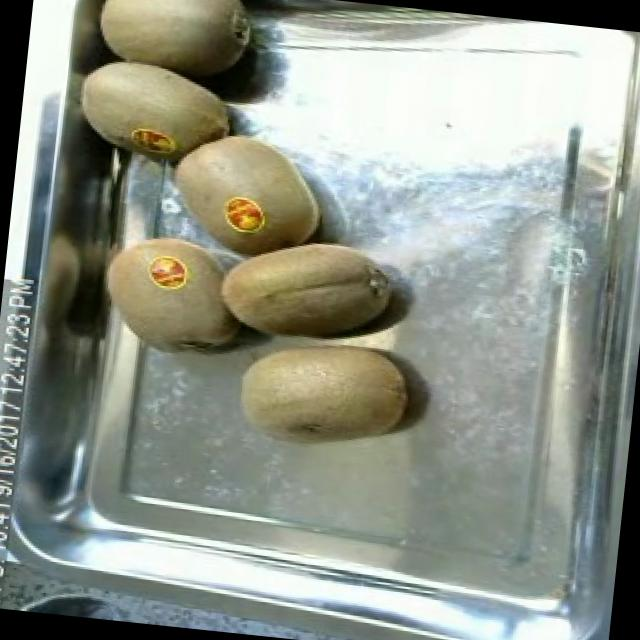Fruit: (206, 219, 406, 362), (222, 319, 420, 460), (155, 115, 337, 250), (58, 54, 244, 166), (77, 0, 269, 82)
